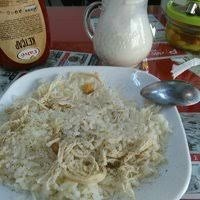pirinc_pilavi: (0, 73, 167, 199)
